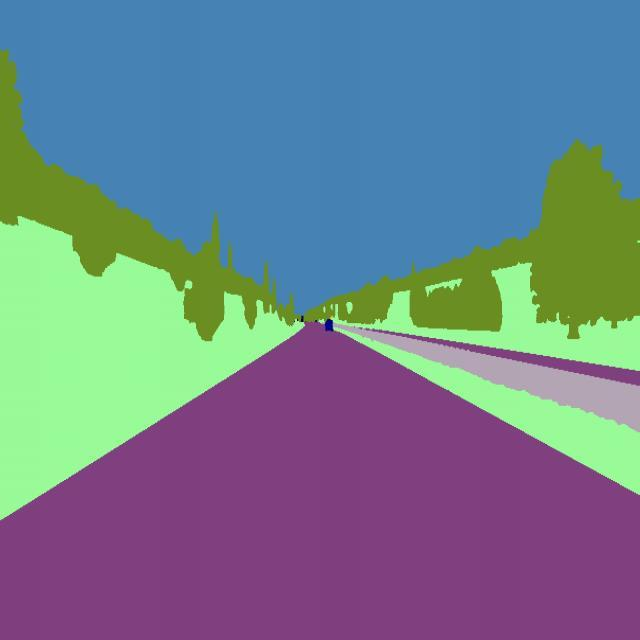safe: (323, 315, 335, 331)
